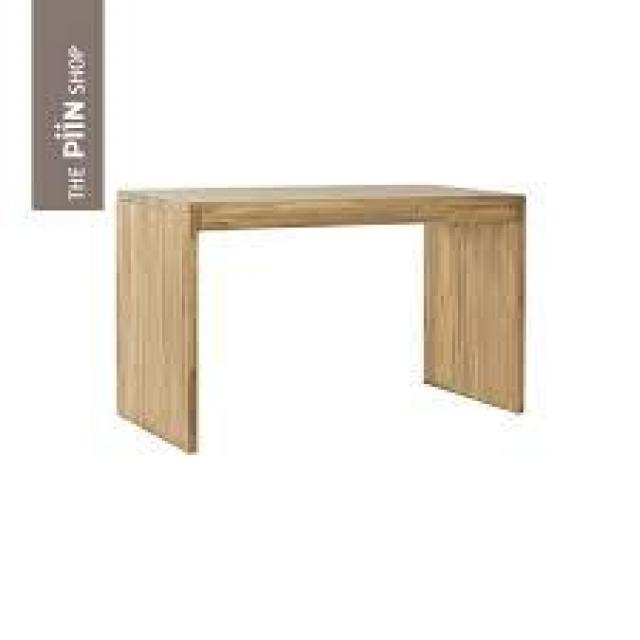table: (102, 139, 566, 495)
